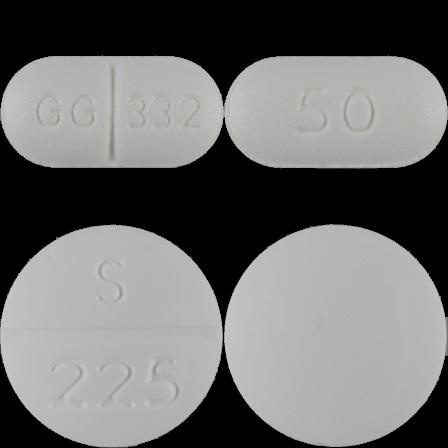68788-9387: (0, 0, 224, 224)
